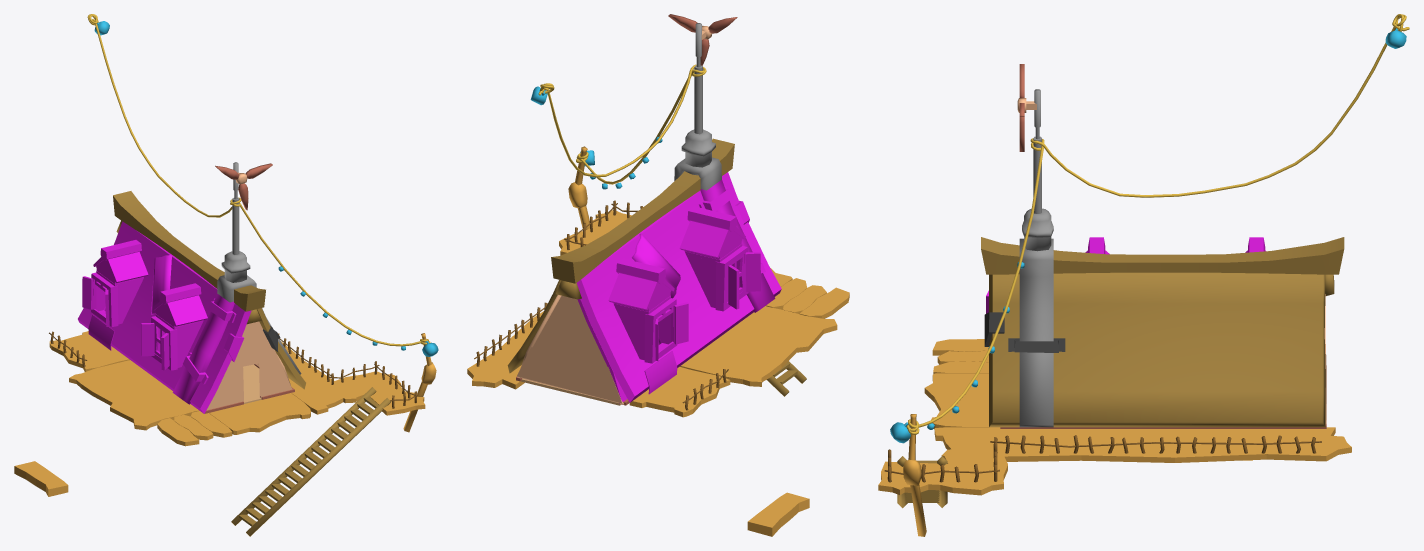
The model's file is Ninia.fbx.
3 renders of one model, left to right at view 1: azimuth 30°, elevation 25°; view 2: azimuth 150°, elevation 25°; view 3: azimuth 270°, elevation 25°, orthographic. The views are drawn at different scales.
Visible parts, largest first — view 1: Balconazo, Cube.010, Balconazo.001, Cube.003, Cube.004, Cube.011, Plane, Cube.020, BézierCurve, Cube.007, Madera2, Cube.018 (+14 smaller); view 2: Cube.010, Balconazo, Cube.004, Cube.003, Balconazo.001, Cube.007, Cube.018, Cube.008, BézierCurve, Madera2, Balconazo.002, PuertaTejado.001 (+13 smaller); view 3: Cube.002, Balconazo.001, Cube.003, Cube.021, Balconazo, BézierCurve, Madera2, Cube.018, Cube.012, Cube.014, Cube.025.
Part boxes in pixels (x1,y1,x2,y2): Balconazo: (49, 331, 310, 446); Cube.010: (78, 221, 251, 413); Balconazo.001: (281, 341, 425, 415); Cube.003: (113, 191, 265, 311); Cube.004: (206, 321, 292, 410); Cube.011: (231, 387, 390, 536); Plane: (239, 397, 378, 526); Cube.020: (172, 293, 234, 404); BézierCurve: (87, 14, 430, 346); Cube.007: (141, 316, 177, 370); Madera2: (49, 331, 418, 408); Cube.018: (221, 162, 250, 282); Cube.010: (577, 172, 781, 402); Balconazo: (629, 268, 849, 417); Cube.004: (517, 295, 623, 404); Cube.003: (551, 138, 734, 283); Balconazo.001: (467, 210, 631, 389); Cube.007: (715, 246, 760, 311); Cube.018: (681, 23, 715, 175); Cube.008: (644, 298, 688, 363); BézierCurve: (538, 64, 706, 184); Madera2: (474, 200, 728, 410); Balconazo.002: (747, 492, 809, 536); PuertaTejado.001: (608, 273, 674, 310); Cube.002: (989, 272, 1325, 427); Balconazo.001: (878, 427, 1351, 495); Cube.003: (981, 237, 1344, 274); Cube.021: (1019, 238, 1053, 427); Balconazo: (924, 339, 988, 429); BézierCurve: (906, 14, 1409, 434); Madera2: (884, 435, 1321, 482); Cube.018: (1022, 89, 1053, 251); Cube.012: (903, 414, 926, 536); Cube.014: (1008, 338, 1065, 352); Cube.025: (1000, 424, 1326, 428).
Size of the model in its own units: 2694 by 3375 by 3127.
